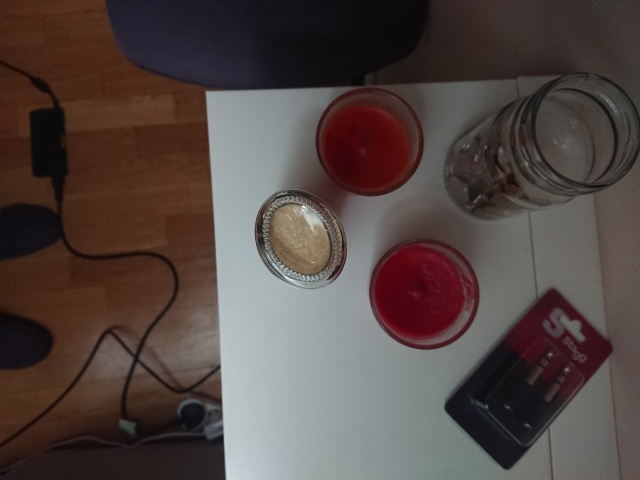Kotanyi Garlic Granules 70g: (251, 186, 350, 293)
